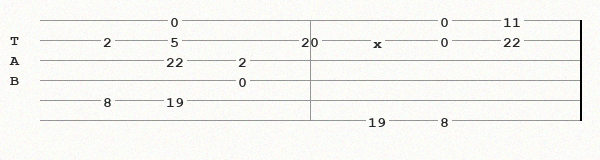0: (170, 14, 183, 27), (238, 74, 251, 87), (440, 14, 453, 27), (440, 34, 453, 47)
11: (503, 14, 525, 27)
19: (166, 94, 188, 107), (368, 114, 390, 127)
2: (103, 34, 116, 47), (238, 54, 251, 67)
20: (301, 34, 323, 47)
22: (166, 54, 188, 67), (503, 34, 525, 47)
5: (170, 34, 183, 47)
8: (103, 94, 116, 107), (440, 114, 453, 127)
x: (373, 35, 386, 45)
